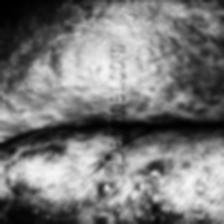Potentially Malignant Skin Tumors: (0, 1, 88, 119), (135, 0, 224, 109), (125, 154, 224, 224), (0, 144, 80, 224)
